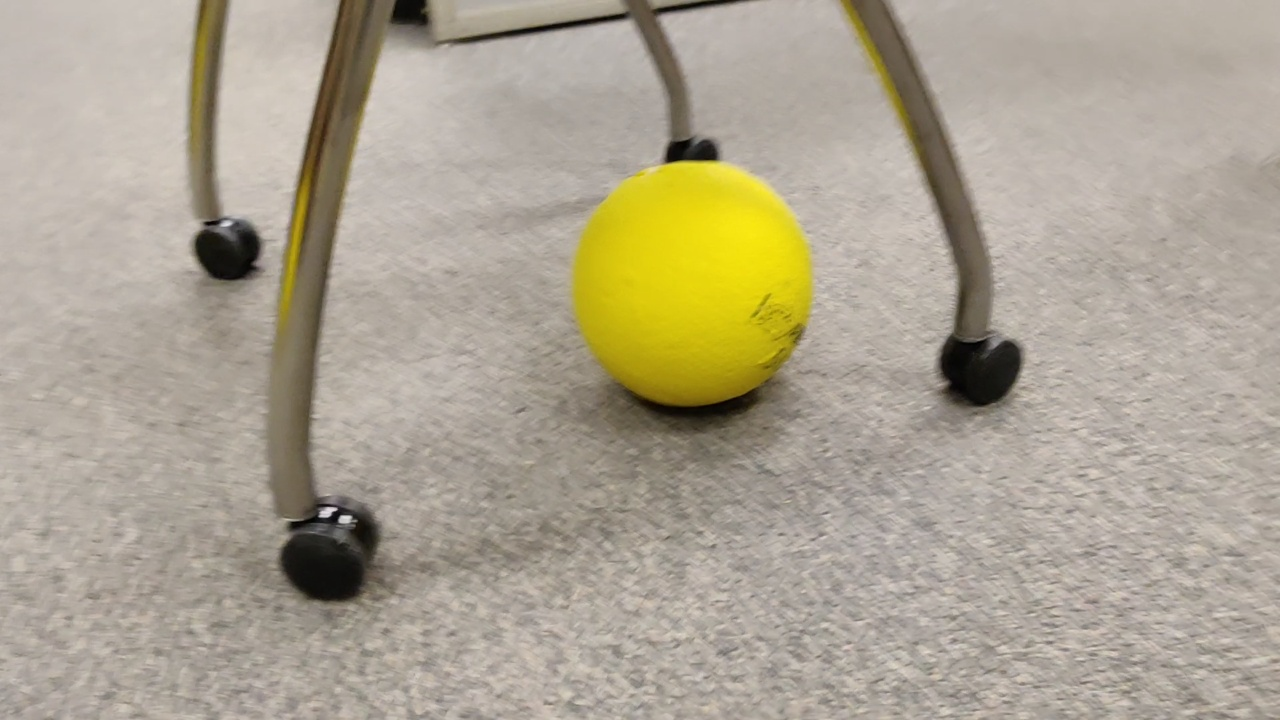Ball: (571, 159, 816, 412)
